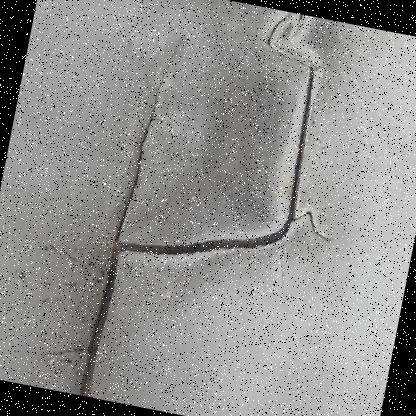Crack: (18, 11, 216, 406), (97, 127, 353, 322), (211, 2, 415, 183)
